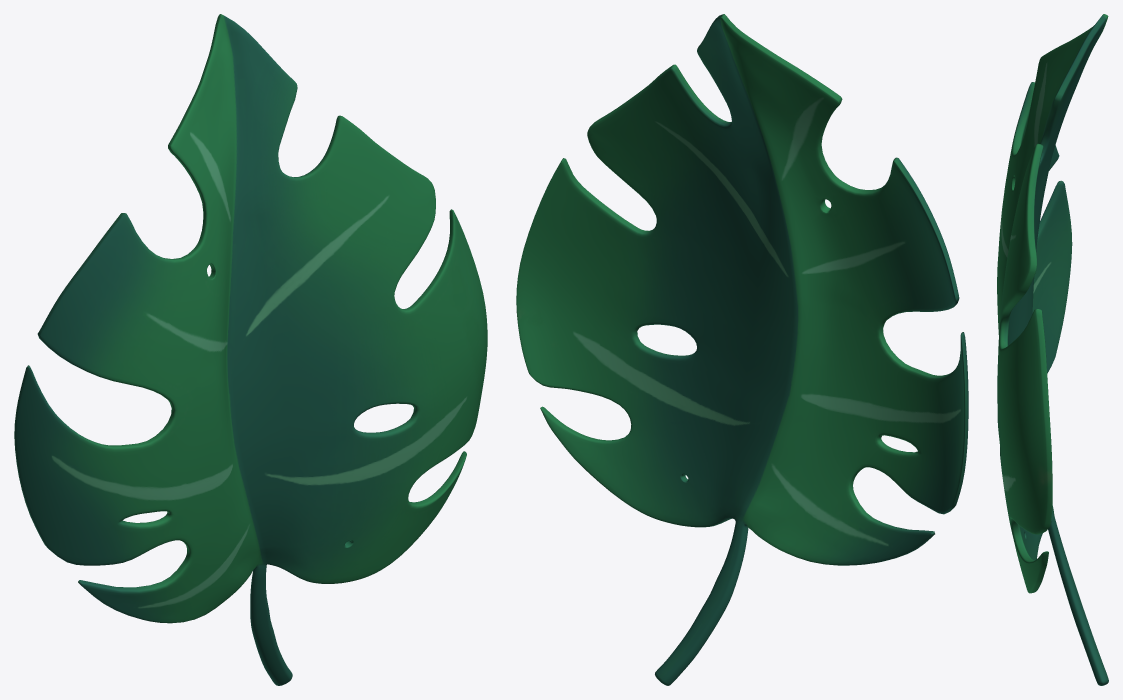
Rendered from hoja.glb.
3 renders of one model, left to right at view 1: azimuth 30°, elevation 25°; view 2: azimuth 150°, elevation 25°; view 3: azimuth 270°, elevation 25°, orthographic. The views are drawn at different scales.
Parts seen in each view (by area): view 1: tropical_leaf_1.1; view 2: tropical_leaf_1.1; view 3: tropical_leaf_1.1.
Boxes of the visible parts, bbox=[...] form: tropical_leaf_1.1: bbox=[14, 14, 487, 685]; tropical_leaf_1.1: bbox=[516, 14, 968, 685]; tropical_leaf_1.1: bbox=[997, 14, 1108, 685].
Bounding box in the file's own units: 0.0193 × 0.0274 × 0.00431.
Materials: 1 (1 with a texture image).
